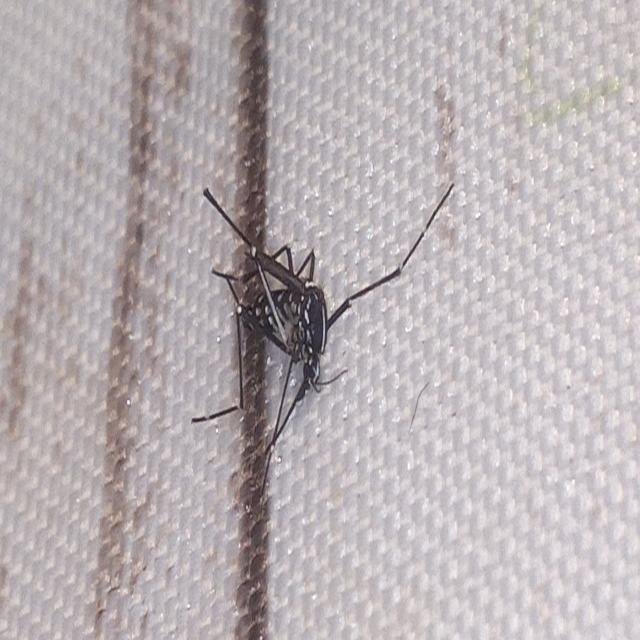albopictus: (191, 125, 459, 508)
